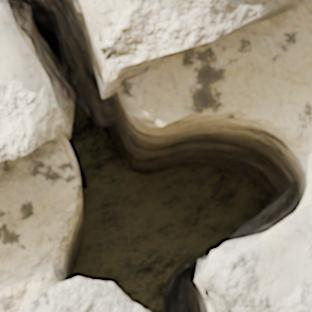broken_brick: (92, 0, 304, 86), (198, 198, 311, 311), (0, 2, 66, 162), (14, 278, 141, 311)
crack: (0, 0, 311, 311)
